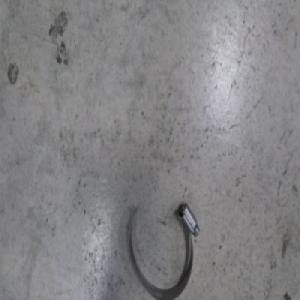AdjustableClamp: (126, 201, 200, 296)
